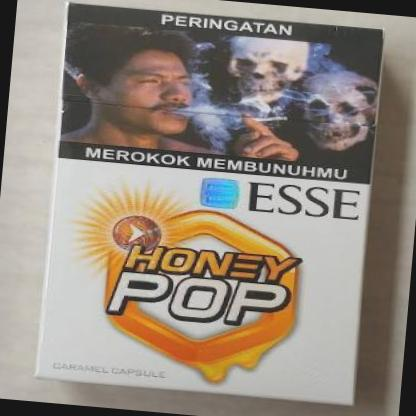objects: (36, 3, 386, 406)
